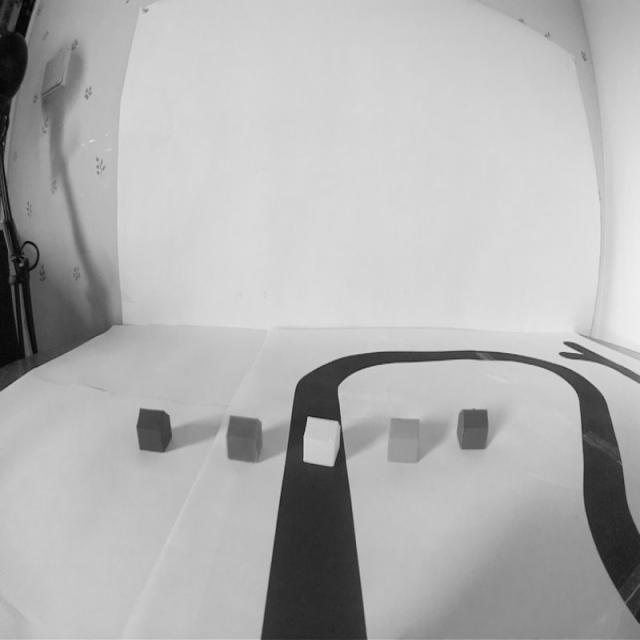home: (301, 412, 344, 470), (132, 403, 176, 458), (222, 412, 266, 467), (384, 413, 424, 469), (455, 404, 490, 457)
lineStraight: (249, 439, 385, 640)
